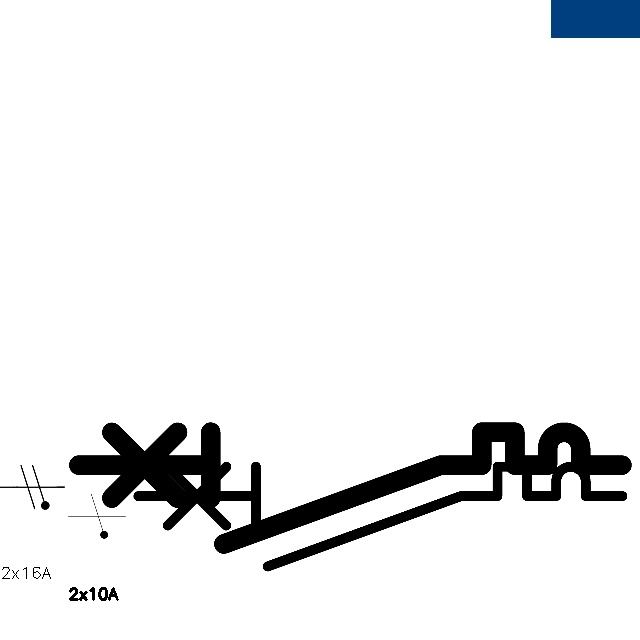interruptor_termomagnetico: (64, 418, 635, 558), (125, 454, 635, 578)
